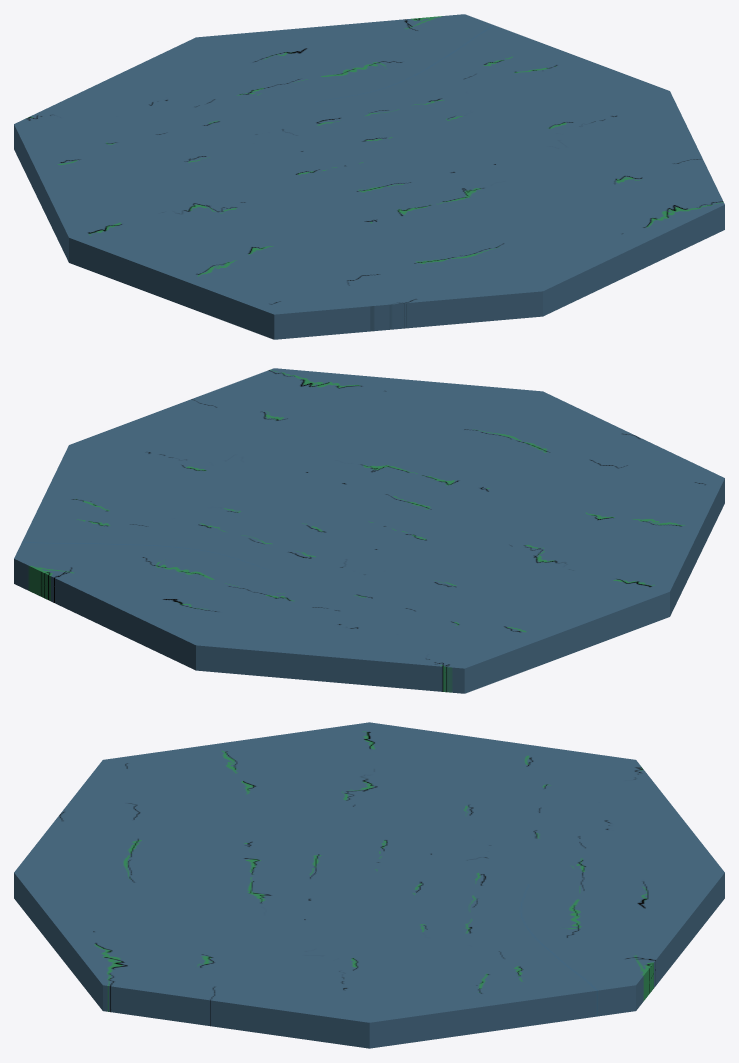
File: grass ground.fbx
3 views of the same model, one above another, from view 1: azimuth 30°, elevation 25°; view 2: azimuth 150°, elevation 25°; view 3: azimuth 270°, elevation 25° (orthographic). The views are drawn at different scales.
Visible parts, largest first — view 1: Untitled_Artwork 6; view 2: Untitled_Artwork 6; view 3: Untitled_Artwork 6.
Part boxes in pixels (x1=…): Untitled_Artwork 6: x1=14, y1=14, x2=724, y2=339; Untitled_Artwork 6: x1=14, y1=368, x2=724, y2=693; Untitled_Artwork 6: x1=14, y1=722, x2=724, y2=1048.
Size of the model in its own units: 276 by 11.07 by 276.
